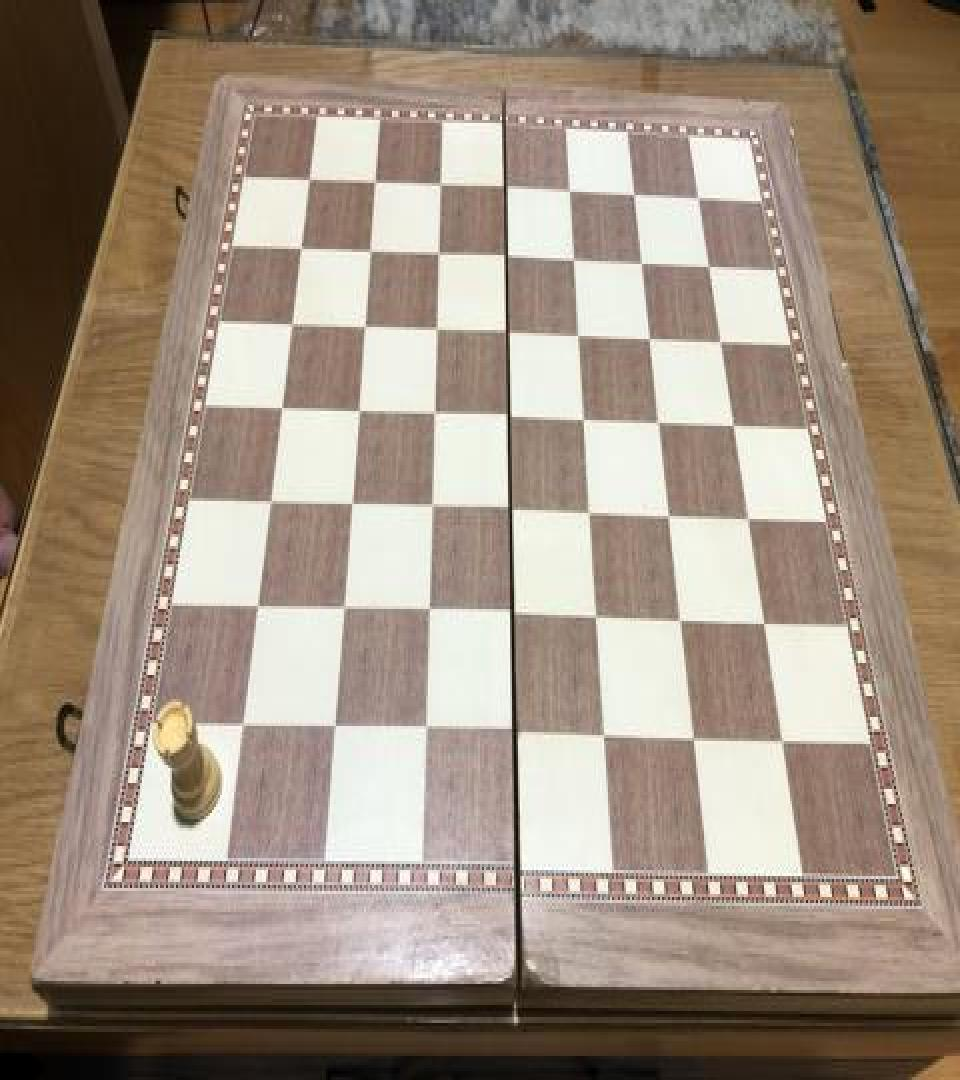xcorner: (244, 586, 268, 623), (592, 718, 616, 755), (688, 180, 712, 216), (623, 177, 647, 213), (493, 170, 517, 206), (428, 166, 452, 202), (362, 164, 386, 200), (296, 160, 320, 196), (698, 249, 722, 285), (630, 246, 654, 282), (562, 242, 586, 278), (494, 238, 518, 274), (426, 236, 450, 272), (357, 232, 381, 268), (288, 228, 312, 264), (710, 324, 734, 360), (639, 321, 663, 357), (567, 318, 591, 354), (495, 315, 519, 351), (423, 310, 447, 346), (351, 308, 375, 344), (279, 304, 303, 340), (723, 408, 747, 444), (648, 405, 672, 441), (572, 402, 596, 438), (497, 399, 521, 435), (421, 394, 445, 430), (345, 392, 369, 428), (269, 388, 293, 424), (737, 502, 761, 538), (658, 498, 682, 534), (578, 495, 602, 531), (499, 492, 523, 528), (418, 489, 442, 525), (338, 484, 362, 520), (257, 482, 281, 518), (753, 606, 777, 642), (669, 603, 693, 639), (585, 600, 609, 636), (500, 597, 524, 633), (415, 592, 439, 628), (330, 590, 354, 626), (771, 724, 795, 760), (682, 722, 706, 758), (502, 714, 526, 750), (412, 711, 436, 747), (321, 708, 345, 744), (230, 705, 254, 741), (558, 173, 582, 208)
